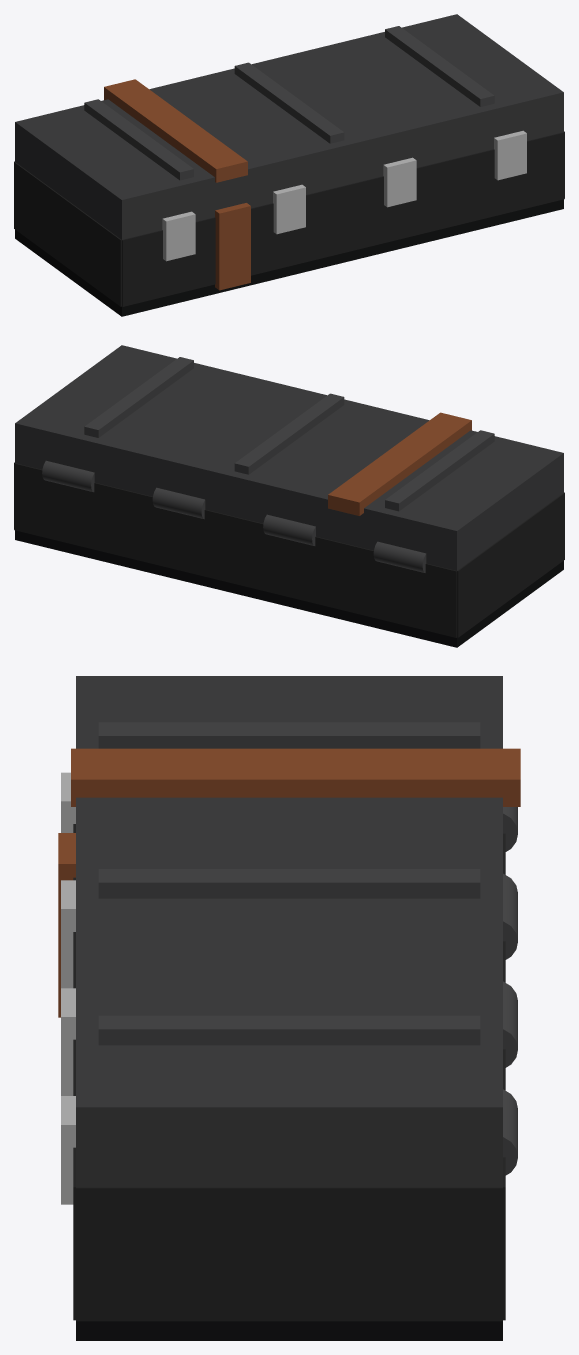
File: CMU3DUtilityAU14GunCasePistolHG45Cloud.glb
3 renders of one model, top to bottom at view 1: azimuth 30°, elevation 25°; view 2: azimuth 150°, elevation 25°; view 3: azimuth 270°, elevation 25°, orthographic. The views are drawn at different scales.
Visible parts, largest first — view 1: separate structural closed lid, structural end wall -1, structural side wall -1, structural bottom pan, single brown lid retaining band, brown retaining band front return, raised molded lid rib 0, raised molded lid rib -0.27625, raised molded lid rib 0.27625, front silver latch -0.3046875, front silver latch 0.1015625, front silver latch -0.1015625 (+1 smaller); view 2: separate structural closed lid, structural end wall 1, structural side wall -1, structural bottom pan, single brown lid retaining band, raised molded lid rib 0, raised molded lid rib -0.27625, raised molded lid rib 0.27625, rear hinge barrel -0.3046875, rear hinge barrel -0.1015625, rear hinge barrel 0.1015625, rear hinge barrel 0.3046875; view 3: separate structural closed lid, structural side wall 1, single brown lid retaining band, raised molded lid rib 0.27625, raised molded lid rib 0, raised molded lid rib -0.27625, structural bottom pan, front silver latch 0.3046875, front silver latch -0.1015625, front silver latch 0.1015625, brown retaining band front return, rear hinge barrel 0.1015625 (+4 smaller).
Boxes of the visible parts, x1=… form: separate structural closed lid: x1=15, y1=14, x2=563, y2=239; structural end wall -1: x1=122, y1=132, x2=564, y2=306; structural side wall -1: x1=14, y1=162, x2=121, y2=306; structural bottom pan: x1=15, y1=199, x2=563, y2=316; single brown lid retaining band: x1=104, y1=79, x2=247, y2=182; brown retaining band front return: x1=215, y1=203, x2=250, y2=290; raised molded lid rib 0: x1=234, y1=62, x2=344, y2=143; raised molded lid rib -0.27625: x1=84, y1=99, x2=193, y2=180; raised molded lid rib 0.27625: x1=385, y1=26, x2=494, y2=106; front silver latch -0.3046875: x1=162, y1=211, x2=195, y2=261; front silver latch 0.1015625: x1=383, y1=157, x2=416, y2=207; front silver latch -0.1015625: x1=273, y1=184, x2=305, y2=234; separate structural closed lid: x1=15, y1=345, x2=563, y2=570; structural end wall 1: x1=14, y1=463, x2=456, y2=637; structural side wall -1: x1=457, y1=493, x2=564, y2=637; structural bottom pan: x1=15, y1=530, x2=563, y2=647; single brown lid retaining band: x1=328, y1=412, x2=471, y2=515; raised molded lid rib 0: x1=234, y1=393, x2=344, y2=474; raised molded lid rib -0.27625: x1=385, y1=430, x2=494, y2=511; raised molded lid rib 0.27625: x1=84, y1=357, x2=193, y2=437; rear hinge barrel -0.3046875: x1=373, y1=541, x2=426, y2=572; rear hinge barrel -0.1015625: x1=263, y1=514, x2=315, y2=545; rear hinge barrel 0.1015625: x1=152, y1=487, x2=205, y2=519; rear hinge barrel 0.3046875: x1=42, y1=460, x2=94, y2=492; separate structural closed lid: x1=76, y1=676, x2=502, y2=1187; structural side wall 1: x1=76, y1=1187, x2=502, y2=1321; single brown lid retaining band: x1=71, y1=748, x2=520, y2=806; raised molded lid rib 0.27625: x1=98, y1=1015, x2=480, y2=1045; raised molded lid rib 0: x1=98, y1=869, x2=480, y2=898; raised molded lid rib -0.27625: x1=98, y1=722, x2=480, y2=748; structural bottom pan: x1=76, y1=1321, x2=502, y2=1340; front silver latch 0.3046875: x1=61, y1=1096, x2=75, y2=1204; front silver latch -0.1015625: x1=61, y1=880, x2=75, y2=988; front silver latch 0.1015625: x1=61, y1=988, x2=75, y2=1095; brown retaining band front return: x1=58, y1=833, x2=75, y2=1017; rear hinge barrel 0.1015625: x1=503, y1=981, x2=517, y2=1067.
Size of what is drawn, in the model's own units: 0.8165 by 0.221 by 0.368.
